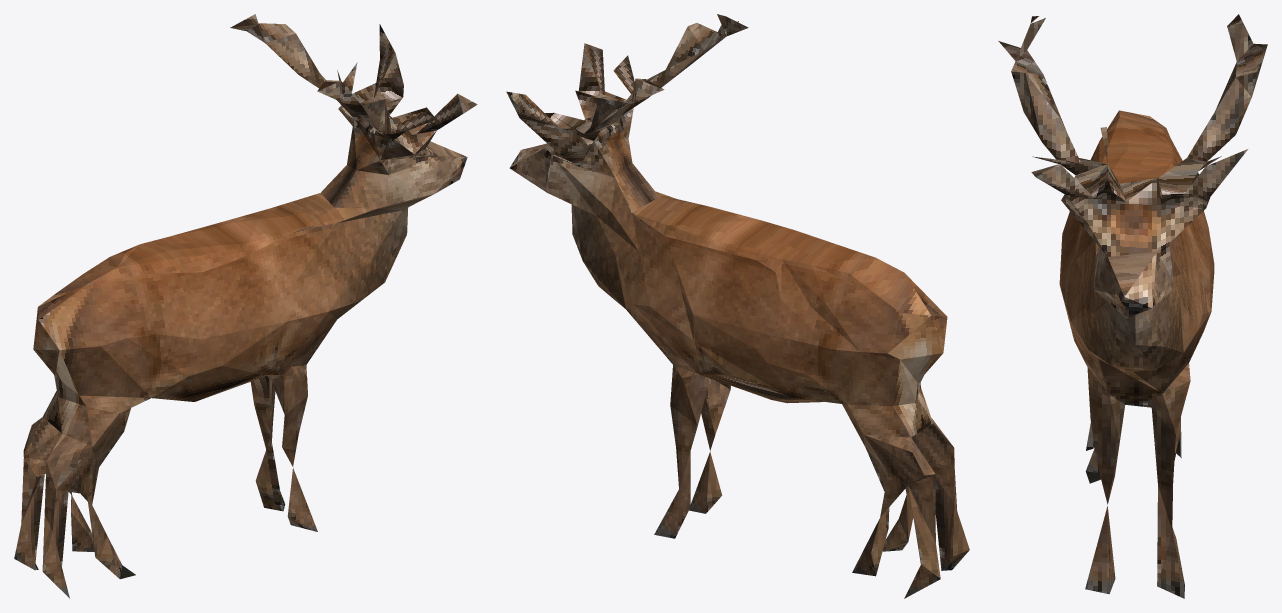
Rendered from animal.salvaje.ciervo.glb.
3 views of the same model, side by side, from view 1: azimuth 30°, elevation 25°; view 2: azimuth 150°, elevation 25°; view 3: azimuth 270°, elevation 25° (orthographic). The views are drawn at different scales.
Visible parts, largest first — view 1: animal.salvaje.ciervo; view 2: animal.salvaje.ciervo; view 3: animal.salvaje.ciervo.
Part boxes in pixels (left/top/right/bottom): animal.salvaje.ciervo: left=14, top=14, right=477, bottom=598; animal.salvaje.ciervo: left=506, top=14, right=969, bottom=598; animal.salvaje.ciervo: left=998, top=14, right=1267, bottom=598.
Bounding box in the file's own units: 1.8 × 1.9 × 0.7972.
Materials: 1 (1 with a texture image).
